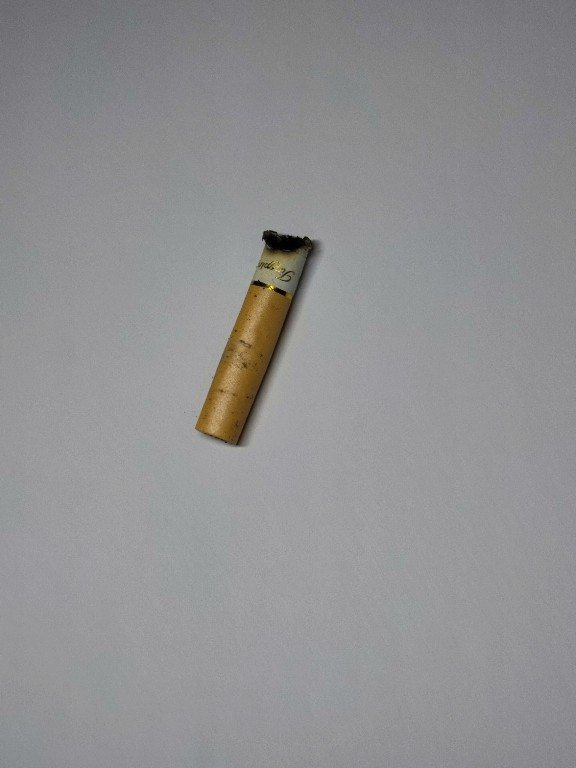cigarette: (190, 225, 317, 449)
